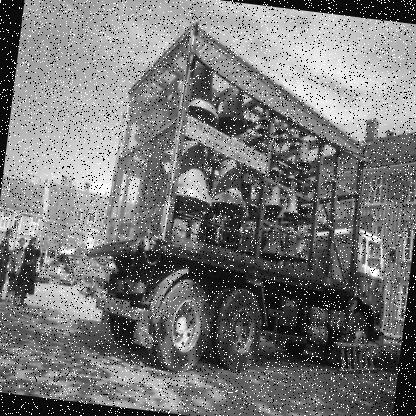Car: (76, 268, 104, 284), (46, 262, 68, 278)
